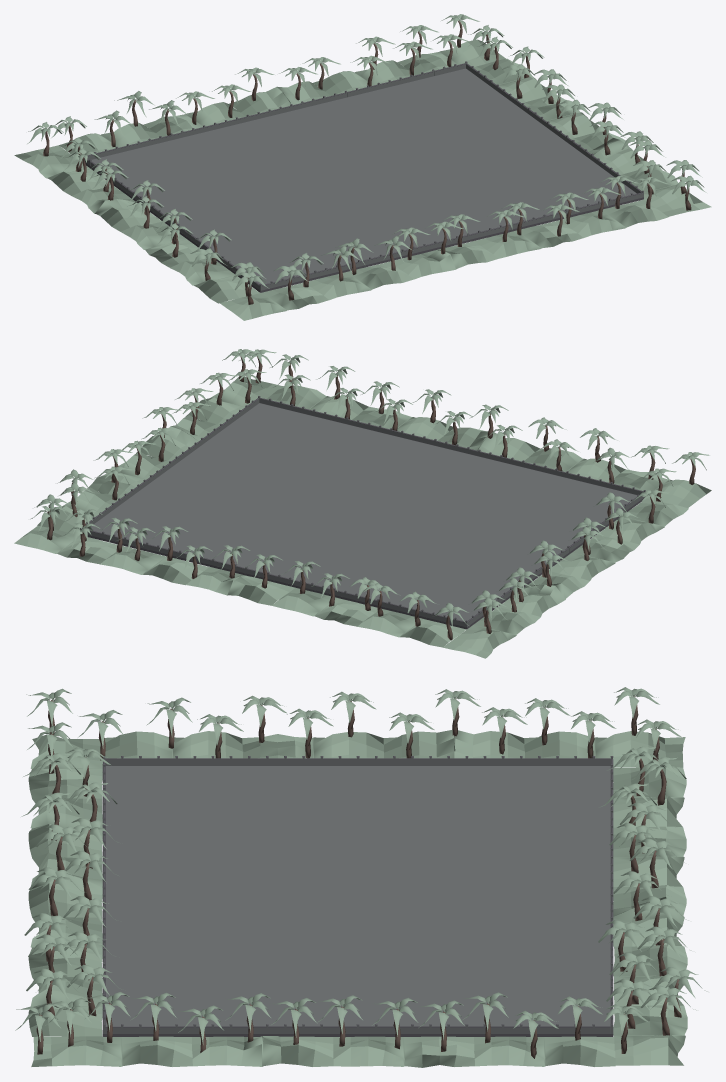
The model's file is Ground3.fbx.
The picture shows the model from 3 angles, top to bottom: view 1: azimuth 30°, elevation 25°; view 2: azimuth 150°, elevation 25°; view 3: azimuth 270°, elevation 25°; orthographic projection. The views are drawn at different scales.
Parts seen in each view (by area): view 1: Debris; view 2: Debris; view 3: Debris.
Boxes of the visible parts, x1,y1,x2,y2 form: Debris: (14,14,711,320); Debris: (14,349,711,658); Debris: (15,687,707,1067).
Size of the model in its own units: 28861 by 2454 by 25125.
